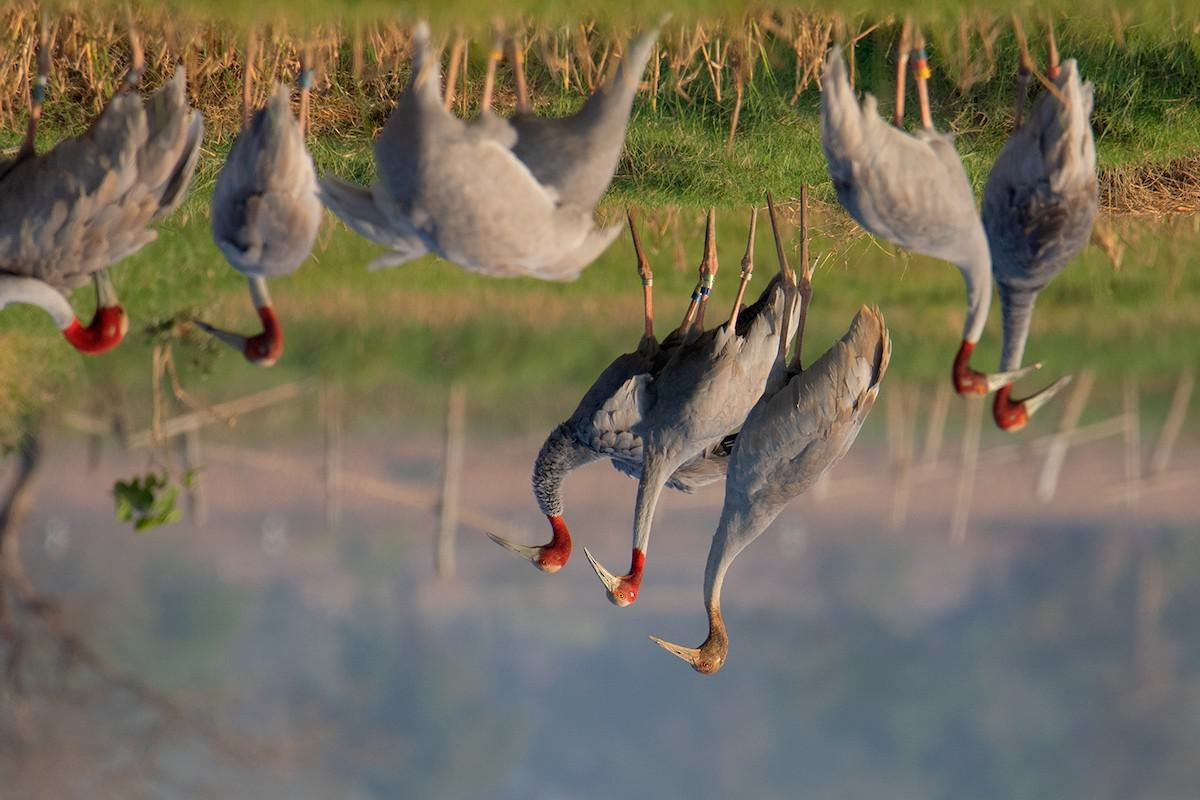crane: (653, 216, 891, 678), (811, 1, 1039, 403), (591, 211, 773, 613), (486, 253, 700, 587), (1, 54, 175, 363), (997, 44, 1108, 448), (197, 64, 336, 371)
